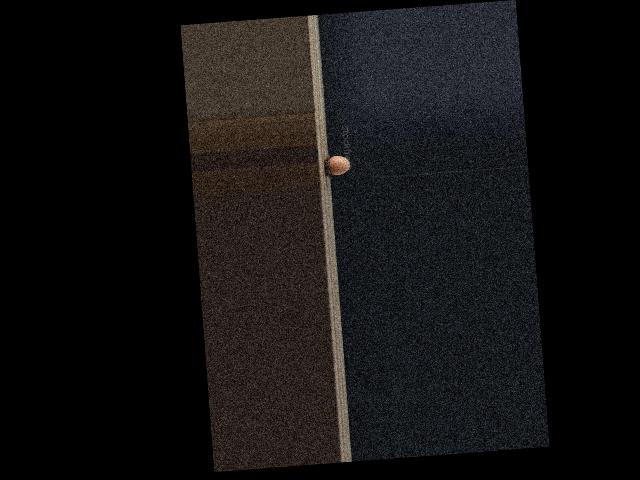egg: (328, 155, 350, 176)
